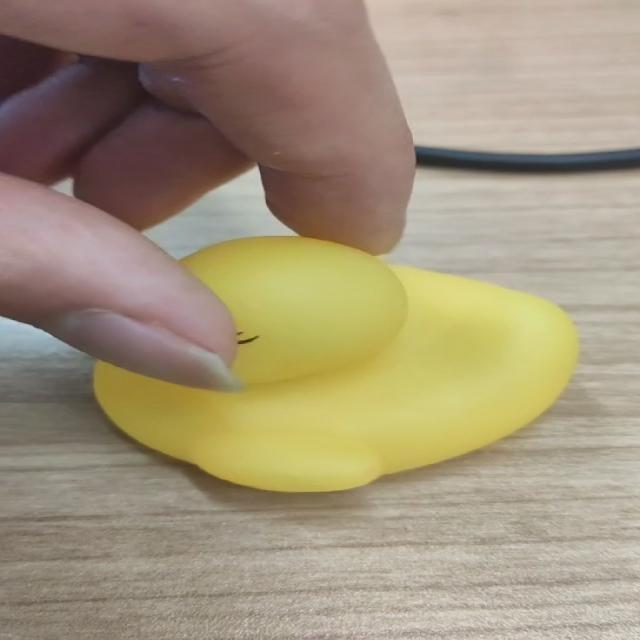rubber-duck: (93, 236, 576, 490)
